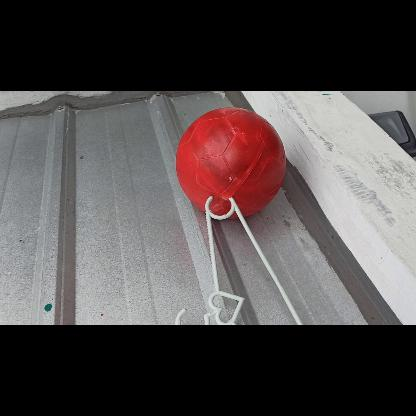red_ball: (174, 107, 288, 219)
